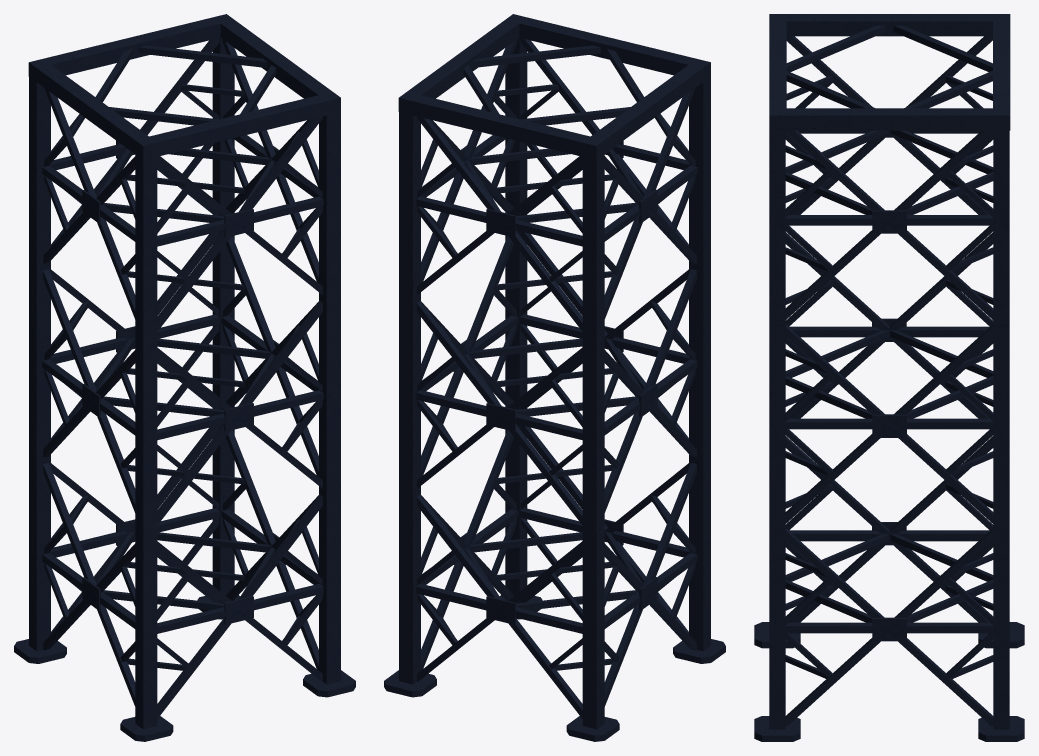
Rendered from tower_top.fbx.
3 views of the same model, side by side, from view 1: azimuth 30°, elevation 25°; view 2: azimuth 150°, elevation 25°; view 3: azimuth 270°, elevation 25° (orthographic). The views are drawn at different scales.
Parts seen in each view (by area): view 1: tower_top; view 2: tower_top; view 3: tower_top.
Part boxes in pixels (x1,y1,x2,y2): tower_top: (14, 14, 355, 741); tower_top: (384, 14, 725, 741); tower_top: (754, 14, 1024, 741).
Size of the model in its own units: 76.08 by 194 by 76.68.
